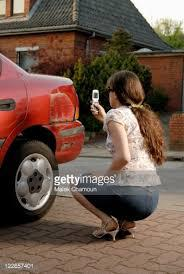quaterpanel-dent: (15, 75, 83, 126)
rear-bumper-dent: (38, 120, 92, 166)
